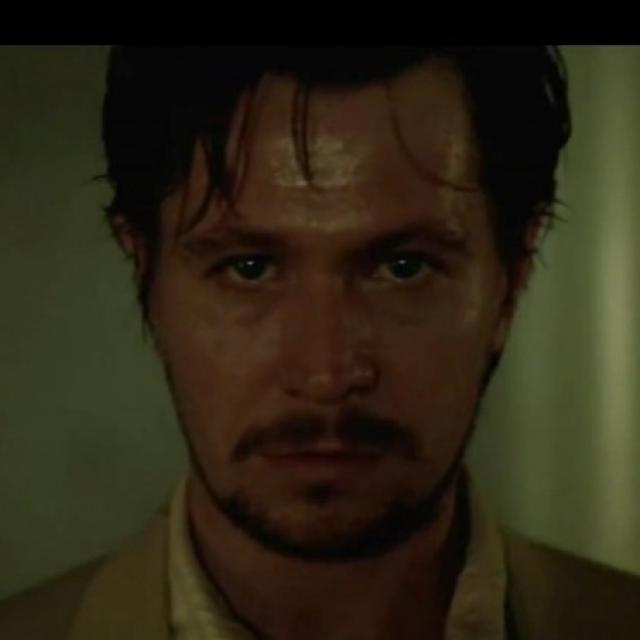Depress: (149, 74, 507, 559)
